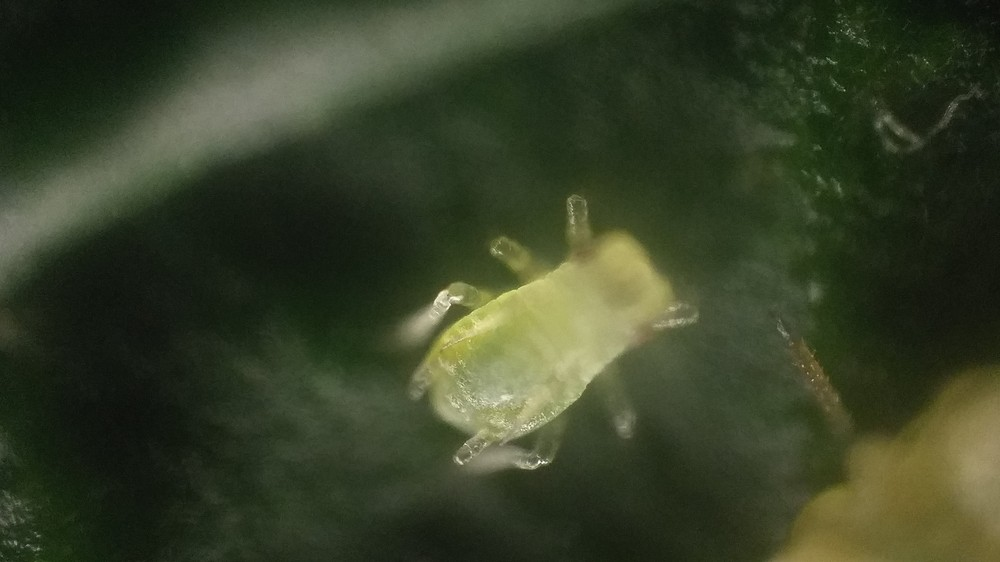Pulgon: (347, 197, 732, 497)
